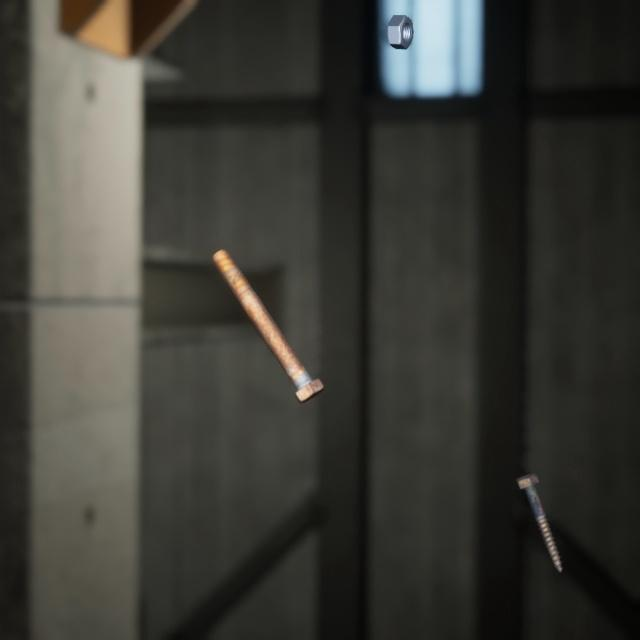bolt: (207, 226, 328, 389), (510, 446, 567, 555)
nut: (382, 2, 417, 46)
